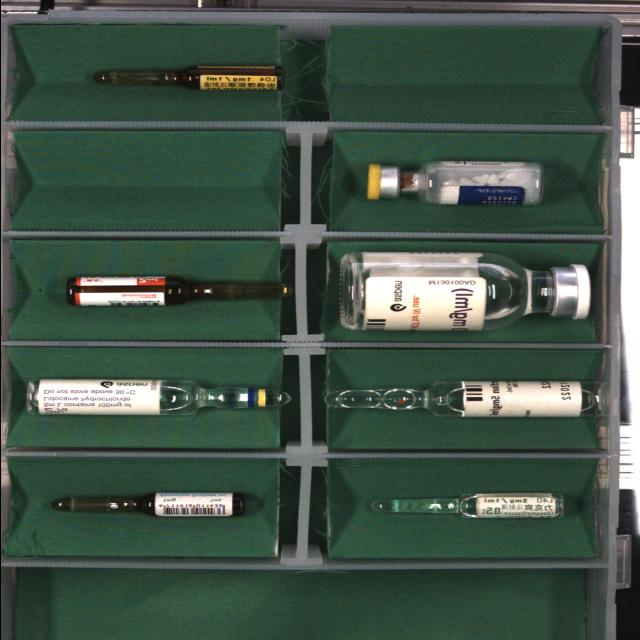Vials: (339, 251, 590, 330), (366, 161, 541, 205)
